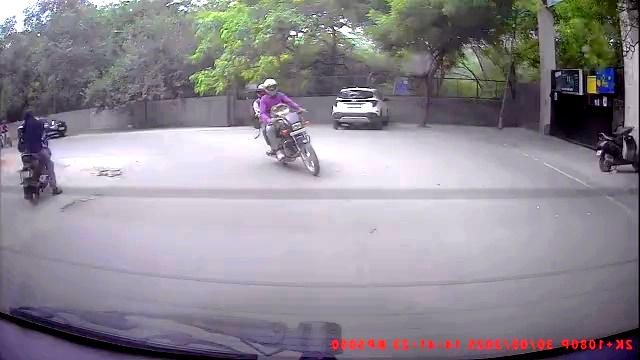motorcycle_with_helmet: (260, 76, 320, 178)
